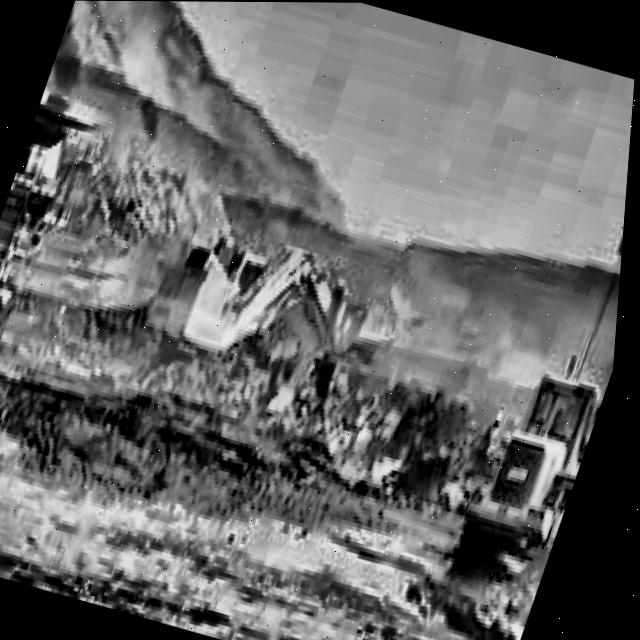buldozerpayloadergrader: (463, 346, 618, 561)
excavator: (122, 206, 390, 443)
